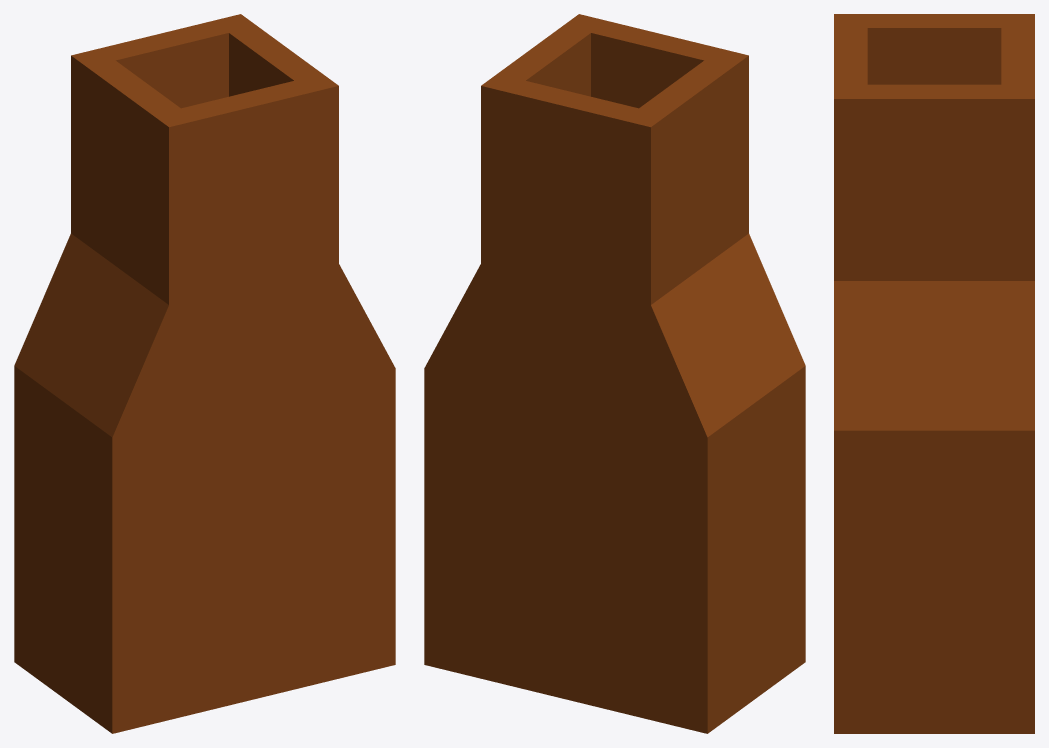
The model's file is chimney_middle.fbx.
The picture shows the model from 3 angles, left to right: view 1: azimuth 30°, elevation 25°; view 2: azimuth 150°, elevation 25°; view 3: azimuth 270°, elevation 25°; orthographic projection. The views are drawn at different scales.
Parts seen in each view (by area): view 1: Mesh1_chimney1_1 Model; view 2: Mesh1_chimney1_1 Model; view 3: Mesh1_chimney1_1 Model.
Part boxes in pixels (x1,y1,x2,y2): Mesh1_chimney1_1 Model: (14,14,395,733); Mesh1_chimney1_1 Model: (424,14,805,733); Mesh1_chimney1_1 Model: (834,14,1034,733).
Bounding box in the file's own units: 0.5 × 1 × 0.3.
